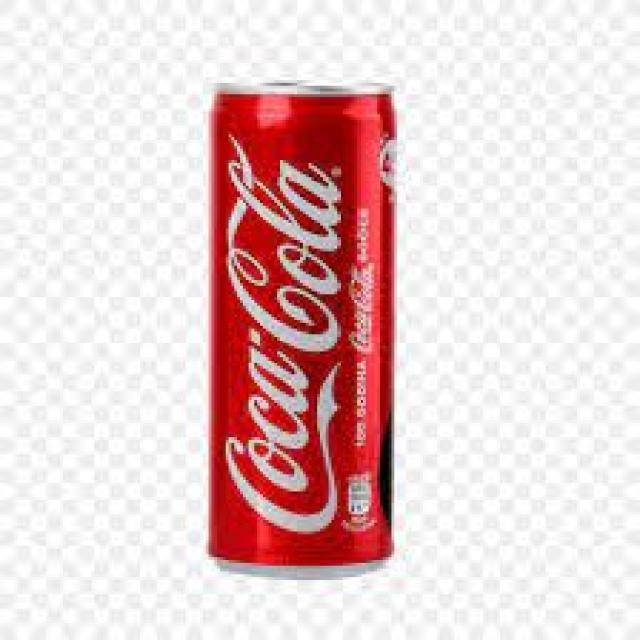aluminum_can: (211, 86, 394, 566)
